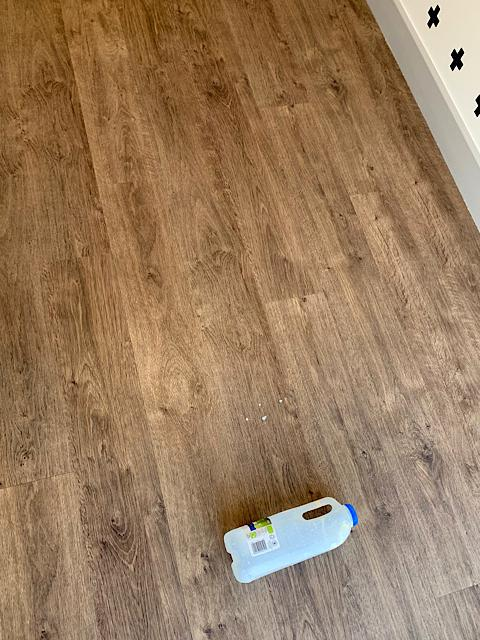plastic: (223, 496, 356, 581)
